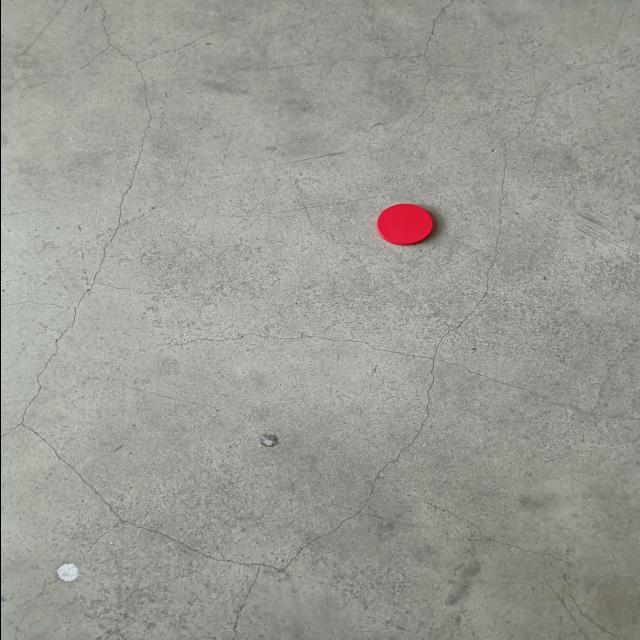chip: (373, 204, 433, 246)
